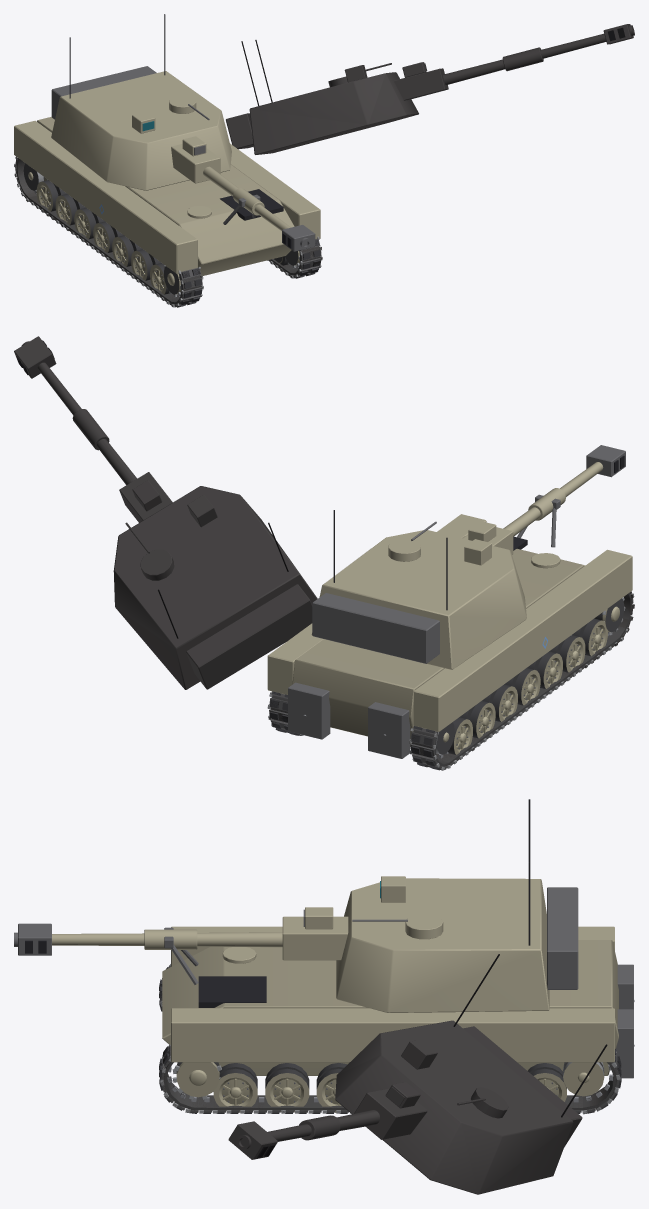
The model's file is artillery__k55a1.glb.
3 renders of one model, top to bottom at view 1: azimuth 30°, elevation 25°; view 2: azimuth 150°, elevation 25°; view 3: azimuth 270°, elevation 25°, orthographic. The views are drawn at different scales.
Parts seen in each view (by area): view 1: Hull_Mesh, Turret_Mesh, Wreck, Gun_Mesh, Track_L_Mesh, Track_R_Mesh, Wheel_L3_Mesh, Wheel_L4_Mesh, Wheel_L0_Mesh, Wheel_L2_Mesh, Wheel_L1_Mesh, Wheel_L5_Mesh; view 2: Wreck, Hull_Mesh, Turret_Mesh, Gun_Mesh, Track_L_Mesh, Wheel_L3_Mesh, Wheel_L5_Mesh, Wheel_L2_Mesh, Wheel_L1_Mesh, Wheel_L4_Mesh, Wheel_L6_Mesh, Track_R_Mesh (+1 smaller); view 3: Hull_Mesh, Wreck, Turret_Mesh, Gun_Mesh, Track_R_Mesh, Wheel_R5_Mesh, Wheel_R6_Mesh, Sprocket_R_Mesh, Idler_R_Mesh, Wheel_R4_Mesh, Wheel_R0_Mesh.
Boxes of the visible parts, box(x1,y1,x2,y2) form: Hull_Mesh: box(14, 117, 320, 275); Turret_Mesh: box(51, 14, 231, 190); Wreck: box(14, 24, 634, 306); Gun_Mesh: box(171, 136, 315, 251); Track_L_Mesh: box(14, 156, 203, 307); Track_R_Mesh: box(267, 236, 322, 278); Wheel_L3_Mesh: box(93, 221, 123, 252); Wheel_L4_Mesh: box(112, 235, 142, 266); Wheel_L0_Mesh: box(36, 180, 66, 211); Wheel_L2_Mesh: box(74, 207, 104, 239); Wheel_L1_Mesh: box(55, 194, 85, 225); Wheel_L5_Mesh: box(131, 249, 161, 280); Wreck: box(14, 336, 634, 768); Hull_Mesh: box(267, 494, 632, 758); Turret_Mesh: box(311, 510, 526, 669); Gun_Mesh: box(463, 445, 625, 554); Track_L_Mesh: box(409, 592, 634, 770); Wheel_L3_Mesh: box(504, 668, 540, 705); Wheel_L5_Mesh: box(549, 635, 585, 672); Wheel_L2_Mesh: box(482, 684, 517, 721); Wheel_L1_Mesh: box(459, 701, 495, 738); Wheel_L4_Mesh: box(527, 651, 562, 688); Wheel_L6_Mesh: box(572, 618, 607, 656); Track_R_Mesh: box(267, 691, 303, 735); Hull_Mesh: box(162, 926, 634, 1078); Wreck: box(159, 954, 620, 1194); Turret_Mesh: box(336, 799, 578, 1012); Gun_Mesh: box(14, 907, 348, 960); Track_R_Mesh: box(159, 1045, 621, 1114); Wheel_R5_Mesh: box(265, 1063, 309, 1112); Wheel_R6_Mesh: box(213, 1063, 257, 1112); Sprocket_R_Mesh: box(172, 1062, 221, 1099); Idler_R_Mesh: box(563, 1062, 604, 1096); Wheel_R4_Mesh: box(316, 1063, 347, 1112); Wheel_R0_Mesh: box(528, 1063, 566, 1101).
Size of what is drawn, in the model's own units: 11.33 by 3.87 by 9.16.
